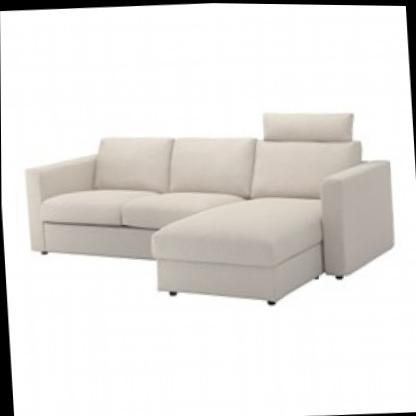Sofa: (5, 67, 405, 339)
